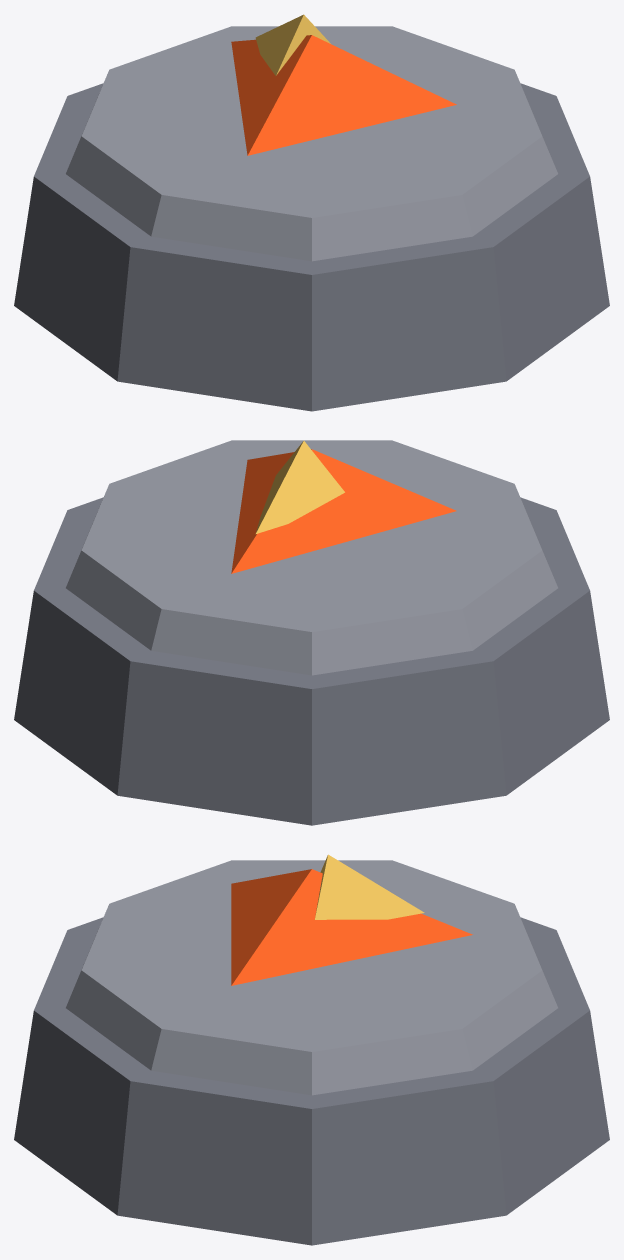
File: drop_rune_fire.glb
3 views of the same model, one above another, from view 1: azimuth 30°, elevation 25°; view 2: azimuth 150°, elevation 25°; view 3: azimuth 270°, elevation 25° (orthographic).
Visible parts, largest first — view 1: drop_rune_fire; view 2: drop_rune_fire; view 3: drop_rune_fire.
Boxes of the visible parts, x1=… form: drop_rune_fire: x1=14, y1=14, x2=609, y2=411; drop_rune_fire: x1=14, y1=440, x2=609, y2=825; drop_rune_fire: x1=14, y1=854, x2=609, y2=1245.
Size of the model in its own units: 0.1455 by 0.072 by 0.1477.
